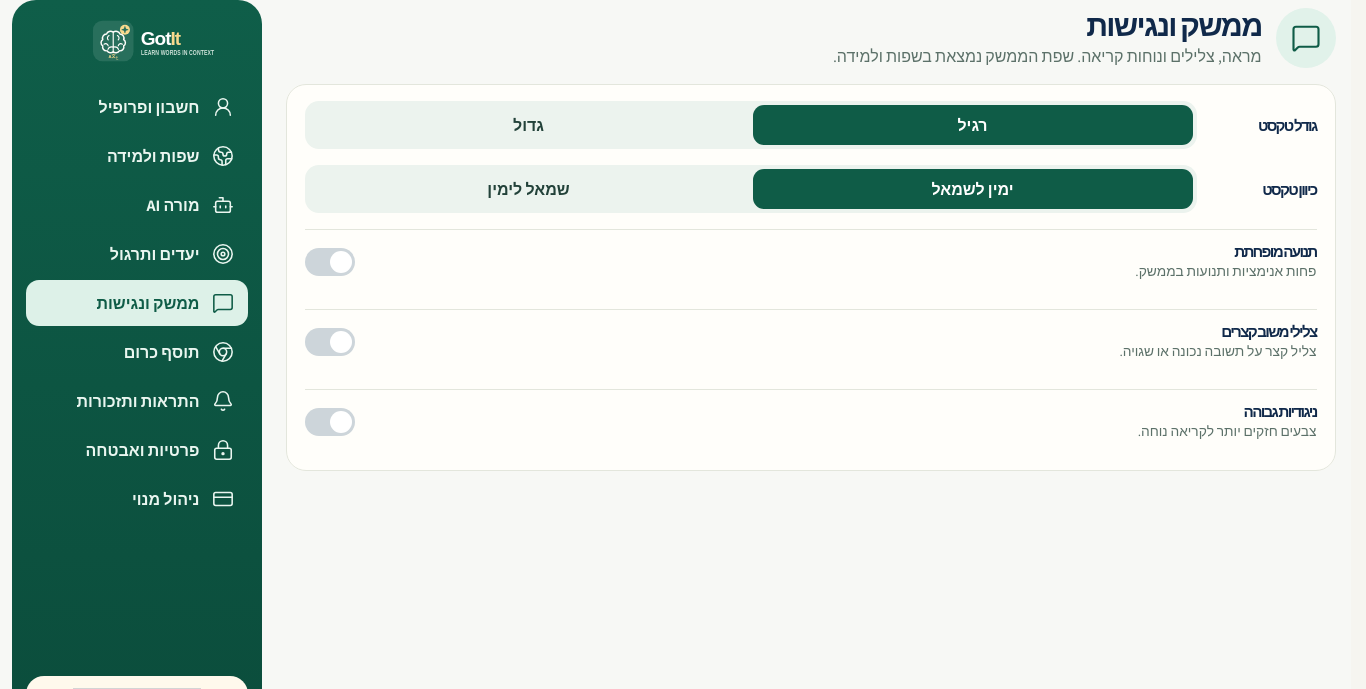
Test case: opens hash-linked settings with only the selected category and accessible current navigation
Expected: the heading "ממשק ונגישות" is shown, [1086,8,1262,44]
Expected: the field labelled "כתובת אימייל" is not shown
Click the link "חשבון ופרופיל" at coordinates (166, 107), box [99,96,234,118]
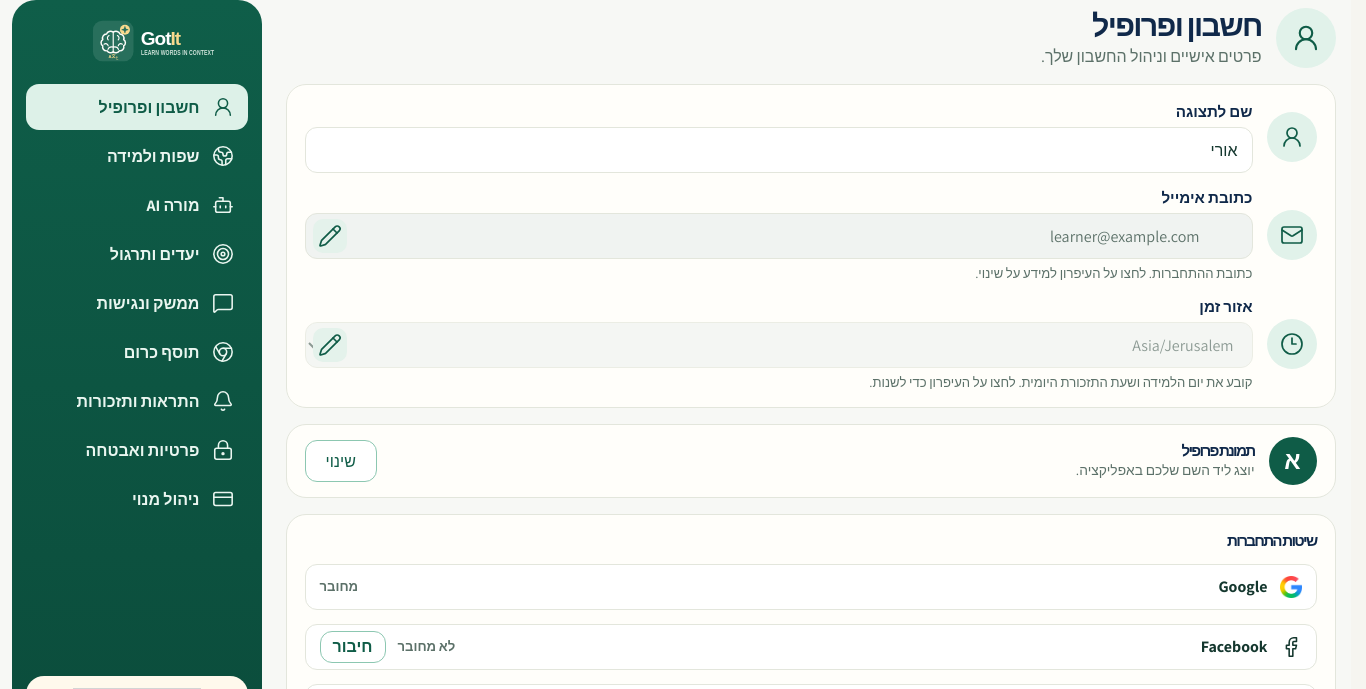
Expected: the field labelled "כתובת אימייל" holds "learner@example.com", [304,213,1252,259]
